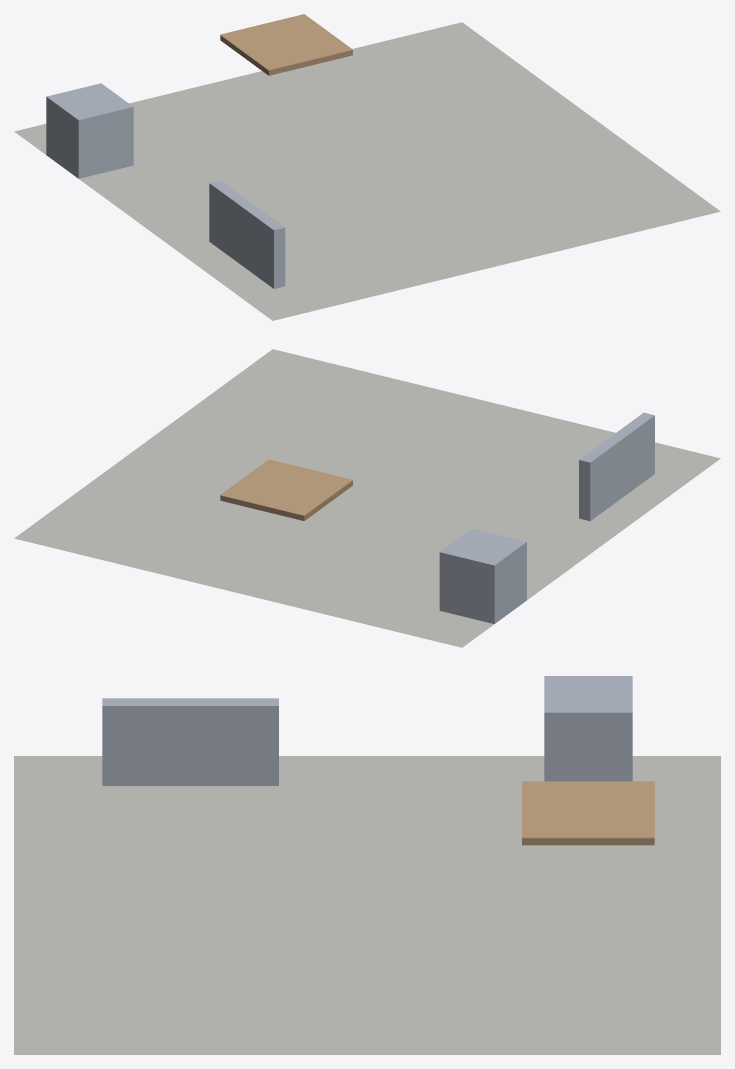
Rendered from corner.gltf.
3 views of the same model, one above another, from view 1: azimuth 30°, elevation 25°; view 2: azimuth 150°, elevation 25°; view 3: azimuth 270°, elevation 25° (orthographic). The views are drawn at different scales.
Parts seen in each view (by area): view 1: Floor, Platform, Wall, Ledge, LedgeSlab; view 2: Floor, Platform, Wall, Ledge, LedgeSlab; view 3: Floor, Wall, Platform, Ledge, LedgeSlab.
Part boxes in pixels (x1=…): Floor: x1=14, y1=22, x2=720, y2=320; Platform: x1=46, y1=83, x2=133, y2=178; Wall: x1=209, y1=180, x2=285, y2=288; Ledge: x1=220, y1=14, x2=352, y2=69; LedgeSlab: x1=220, y1=35, x2=352, y2=75; Floor: x1=14, y1=349, x2=720, y2=647; Platform: x1=439, y1=528, x2=526, y2=623; Wall: x1=579, y1=412, x2=654, y2=521; Ledge: x1=220, y1=459, x2=352, y2=515; LedgeSlab: x1=220, y1=480, x2=352, y2=520; Floor: x1=14, y1=756, x2=720, y2=1054; Wall: x1=102, y1=698, x2=278, y2=785; Platform: x1=544, y1=676, x2=632, y2=781; Ledge: x1=522, y1=781, x2=654, y2=837; LedgeSlab: x1=522, y1=837, x2=654, y2=845.
Size of the model in its own units: 8 by 1.2 by 8.
